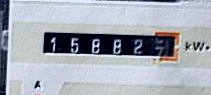1: (48, 35, 58, 52)
2: (132, 37, 143, 54)
5: (69, 36, 80, 52)
7: (154, 45, 163, 56)
8: (111, 37, 122, 55), (90, 38, 101, 54)
screen: (36, 23, 185, 67)
